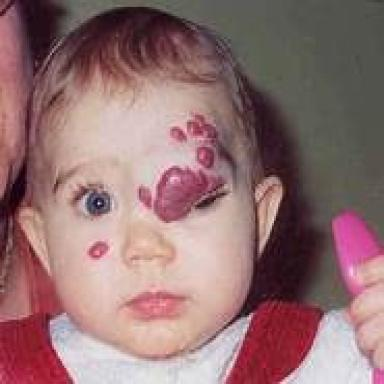Hemangiome: (154, 166, 223, 222), (187, 114, 217, 139), (197, 147, 214, 168), (89, 241, 109, 258), (139, 185, 151, 208), (170, 126, 187, 142)
